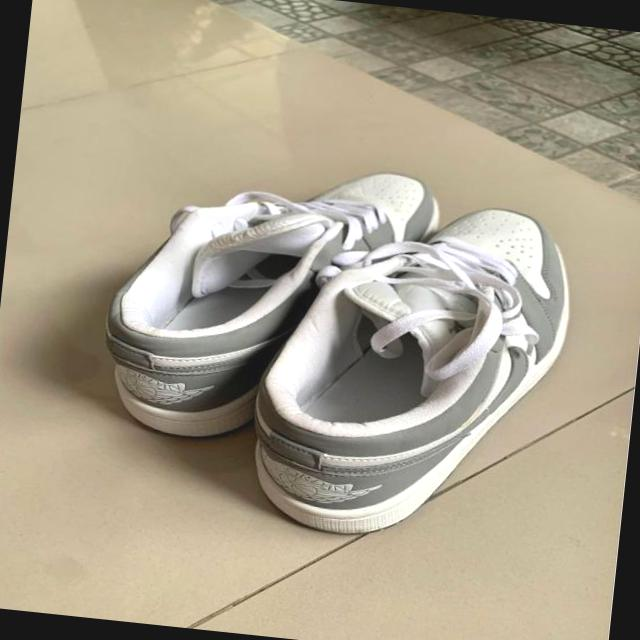nike_fake_jordan: (236, 181, 582, 580), (71, 145, 444, 465)
